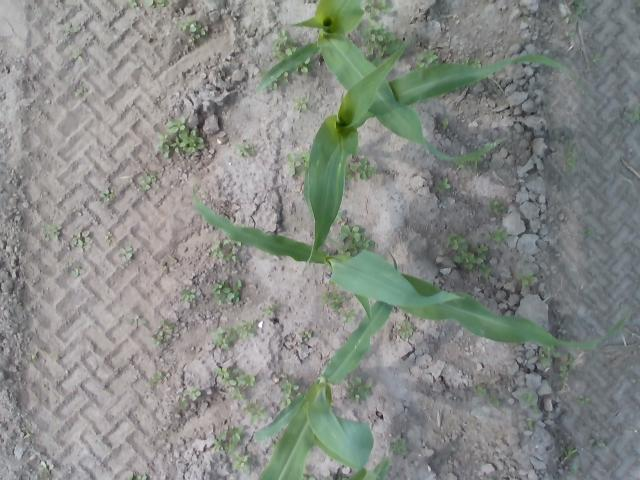Maize: (192, 188, 633, 354), (302, 46, 573, 272), (260, 0, 506, 162), (254, 249, 398, 480), (333, 457, 393, 480)
Weeds: (216, 367, 254, 396), (454, 243, 488, 273), (208, 325, 239, 352), (211, 240, 242, 265), (214, 282, 244, 305), (216, 425, 240, 452), (179, 128, 203, 151), (370, 0, 396, 21), (154, 132, 176, 156), (273, 374, 302, 392), (346, 233, 371, 253), (182, 22, 206, 42), (352, 376, 372, 400), (430, 174, 452, 194), (325, 290, 345, 311), (396, 317, 414, 340), (260, 300, 280, 320), (70, 230, 92, 248), (232, 455, 251, 475), (356, 159, 375, 179), (274, 30, 288, 57), (286, 153, 302, 176), (241, 318, 259, 338), (446, 233, 465, 251), (620, 106, 640, 123), (368, 27, 392, 41), (339, 224, 359, 240), (418, 50, 438, 66), (562, 445, 577, 465), (487, 227, 507, 242), (165, 117, 185, 132), (248, 404, 266, 420), (560, 353, 574, 373), (186, 286, 203, 302), (236, 142, 252, 158), (142, 172, 157, 189), (45, 225, 63, 239), (338, 310, 358, 322), (490, 200, 506, 214), (129, 316, 146, 328), (188, 388, 202, 402), (162, 321, 178, 333), (66, 22, 78, 37), (588, 439, 606, 449), (151, 332, 166, 344), (120, 248, 135, 260), (521, 276, 537, 287), (148, 373, 162, 385), (295, 100, 308, 112), (26, 350, 40, 361), (574, 3, 588, 14), (438, 114, 449, 128), (39, 462, 54, 472), (73, 270, 88, 280), (145, 0, 165, 7), (126, 0, 140, 10), (100, 189, 114, 199), (301, 330, 313, 341), (21, 428, 32, 438), (476, 385, 486, 396), (178, 395, 186, 408), (580, 394, 590, 404), (526, 394, 536, 404), (472, 58, 482, 68), (106, 231, 112, 246)
